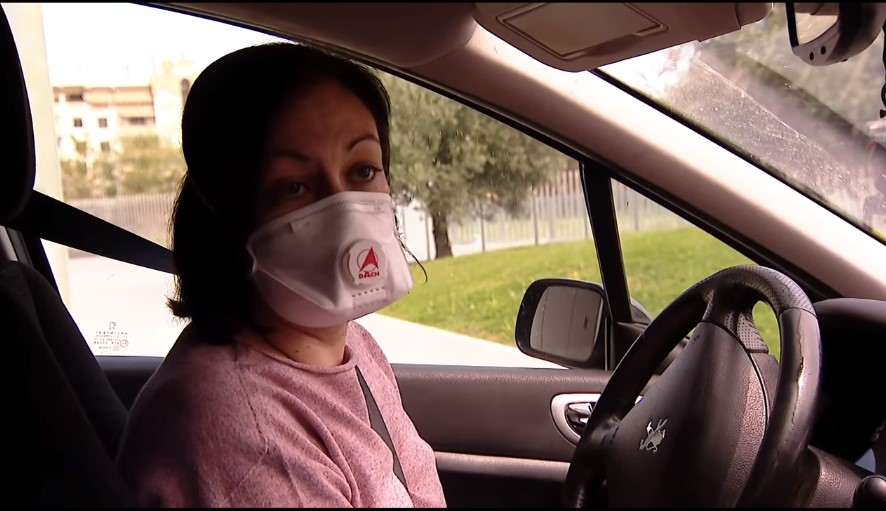face_with_mask: (220, 60, 416, 333)
